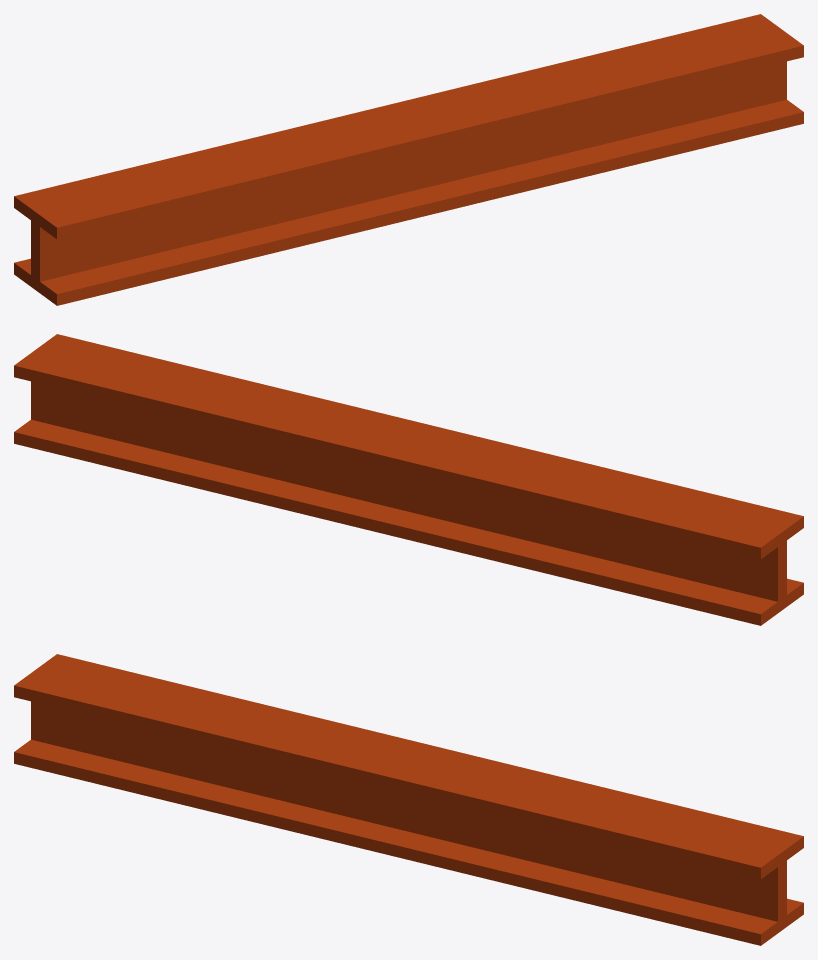
Rendered from MetalBar Rust.fbx.
The picture shows the model from 3 angles, top to bottom: view 1: azimuth 30°, elevation 25°; view 2: azimuth 150°, elevation 25°; view 3: azimuth 330°, elevation 25°; orthographic projection.
Visible parts, largest first — view 1: Iron Bar; view 2: Iron Bar; view 3: Iron Bar.
Boxes of the visible parts, left/top/right/bottom form: Iron Bar: left=14, top=14, right=803, bottom=305; Iron Bar: left=14, top=334, right=803, bottom=625; Iron Bar: left=14, top=654, right=803, bottom=945.
Bounding box in the file's own units: 2000 × 200 × 200.
